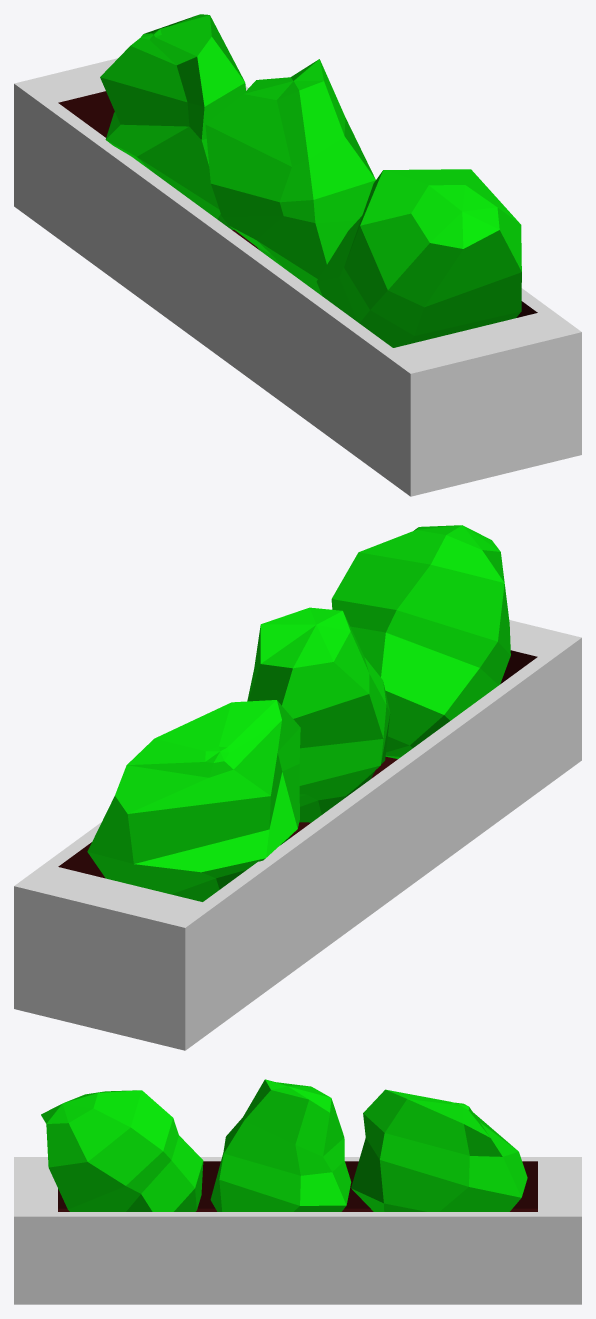
The model's file is flowerpot.fbx.
3 renders of one model, top to bottom at view 1: azimuth 30°, elevation 25°; view 2: azimuth 150°, elevation 25°; view 3: azimuth 270°, elevation 25°, orthographic. The views are drawn at different scales.
Visible parts, largest first — view 1: flowerpot; view 2: flowerpot; view 3: flowerpot.
Part boxes in pixels (x1,y1,x2,y2): flowerpot: (14, 14, 581, 496); flowerpot: (14, 525, 581, 1050); flowerpot: (14, 1079, 581, 1304).
Bounding box in the file's own units: 1.46 × 2.14 × 5.85.
